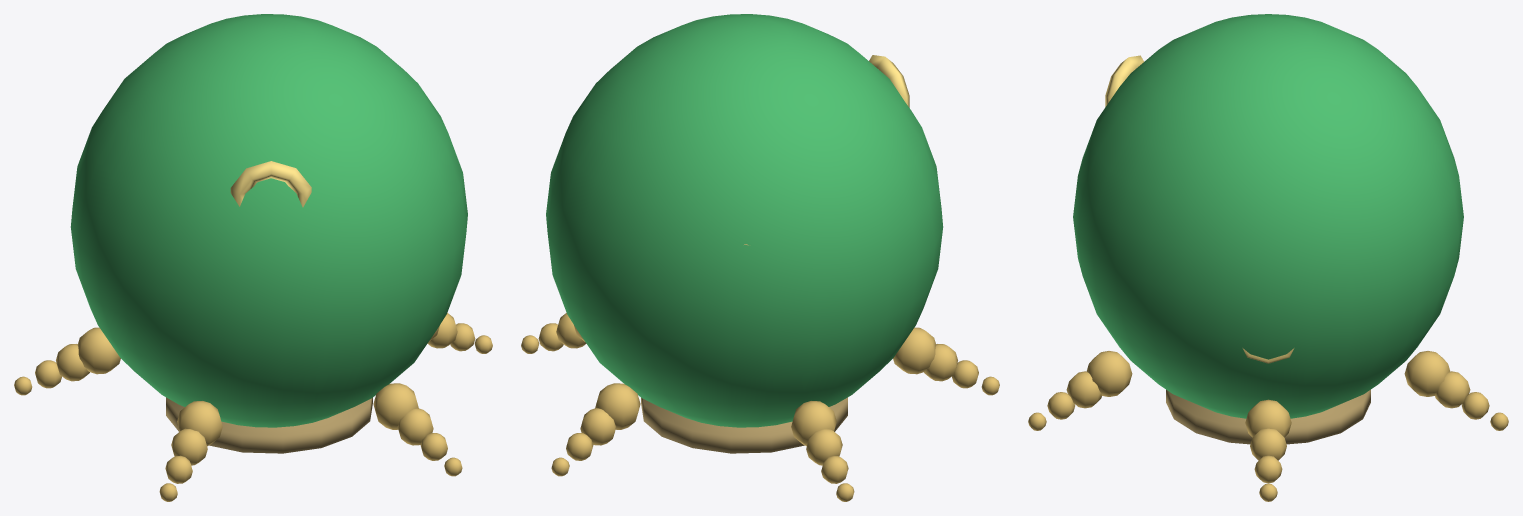
File: egg_jungle_04.glb
3 renders of one model, left to right at view 1: azimuth 30°, elevation 25°; view 2: azimuth 150°, elevation 25°; view 3: azimuth 270°, elevation 25°, orthographic.
Parts seen in each view (by area): view 1: ball; view 2: ball; view 3: ball.
Part boxes in pixels (bbox=[...]): ball: bbox=[14, 14, 492, 501]; ball: bbox=[521, 14, 999, 501]; ball: bbox=[1028, 14, 1508, 501].
Bounding box in the file's own units: 0.9843 × 0.88 × 1.03.
